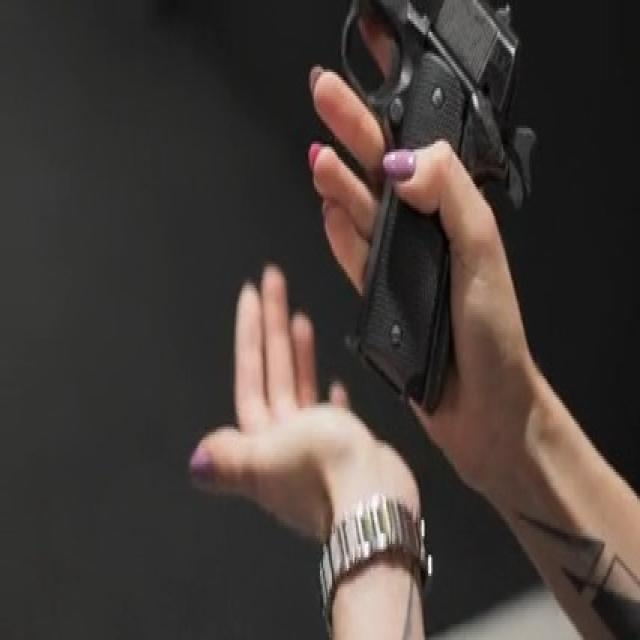Gun_Holder: (264, 0, 553, 427)
